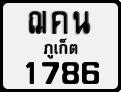letters: (49, 10, 69, 35), (71, 10, 91, 35), (41, 60, 60, 86), (28, 10, 47, 35), (81, 60, 100, 85), (62, 61, 80, 85), (24, 60, 36, 85)
province: (43, 37, 79, 60)
